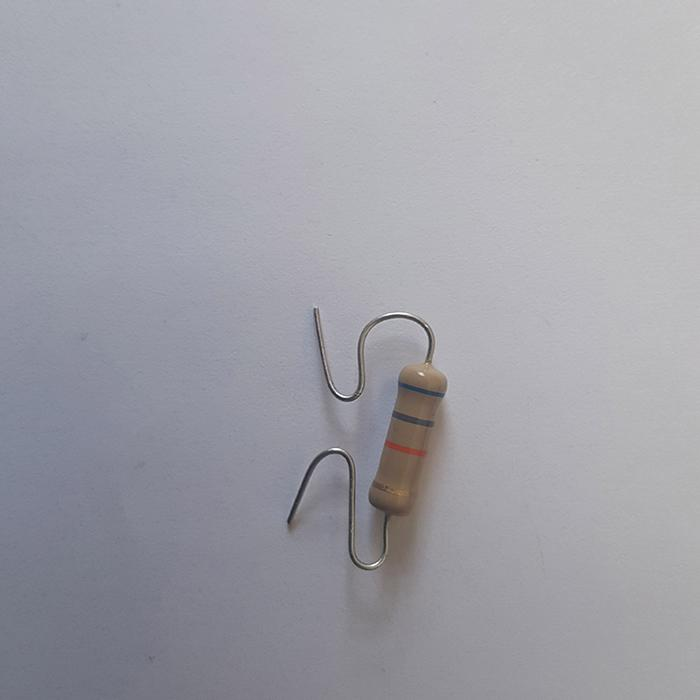resistor: (368, 359, 448, 517)
